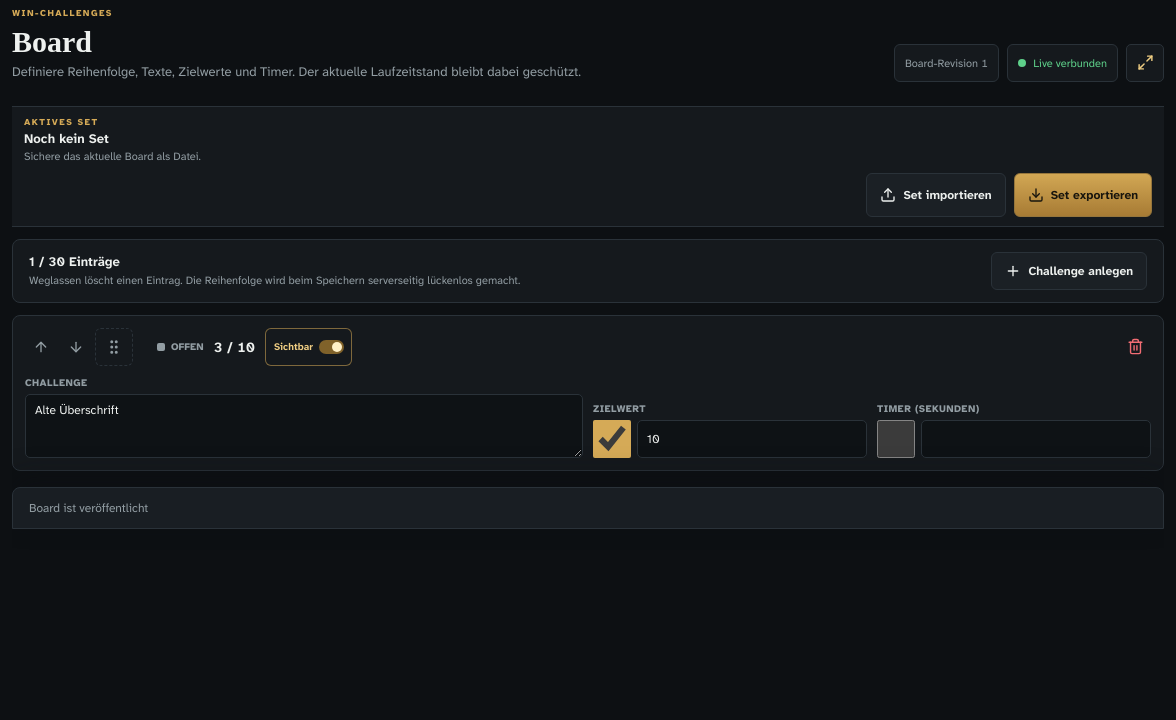
ChallengeBoard › übernimmt ein reines Laufzeit-Update in einen schmutzigen Entwurf ohne Konflikt
The width and height of the screenshot is (1176, 720).
Replace the text in the text box showing "Alte Überschrift" with "Teilweise getippter Titel" at (304, 426), box [25,394,583,458]
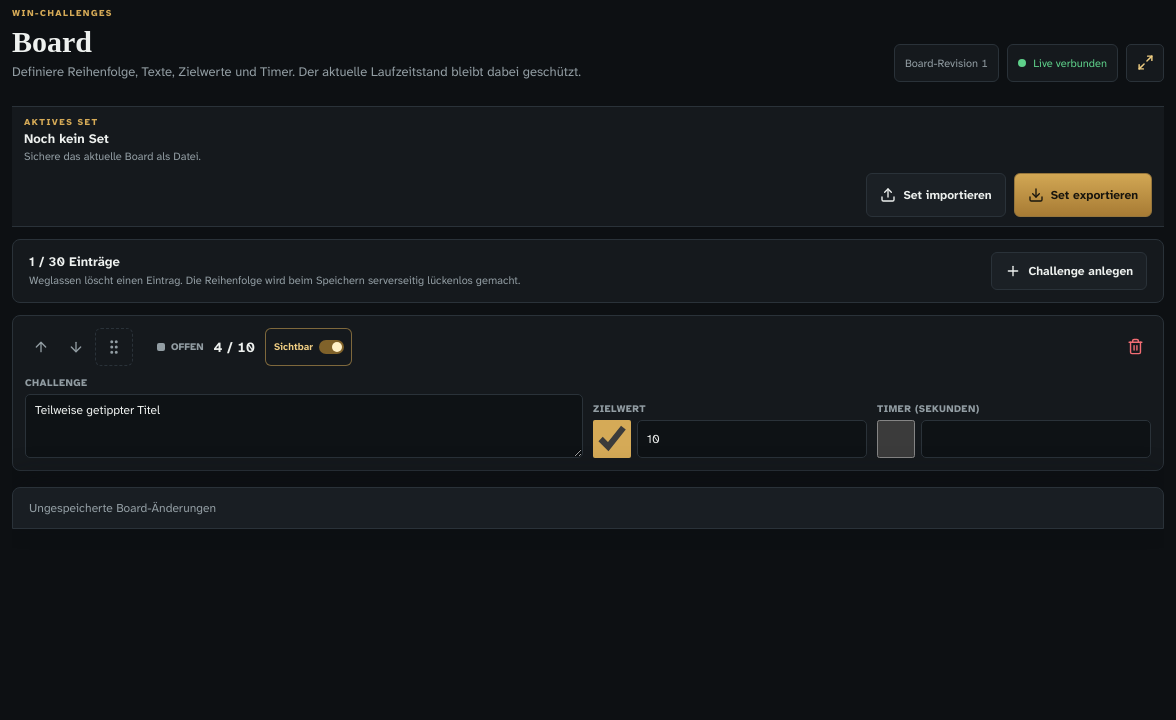
Expected: the text "4 / 10" is shown, [214,338,255,356]
